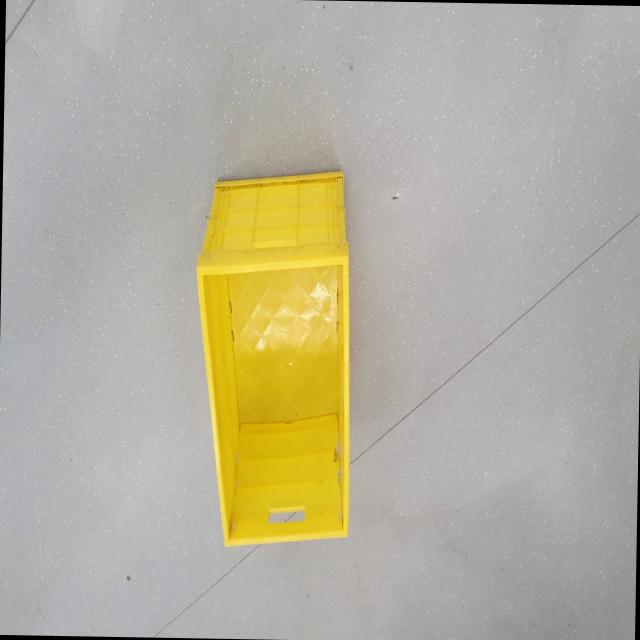box: (187, 157, 356, 571)
